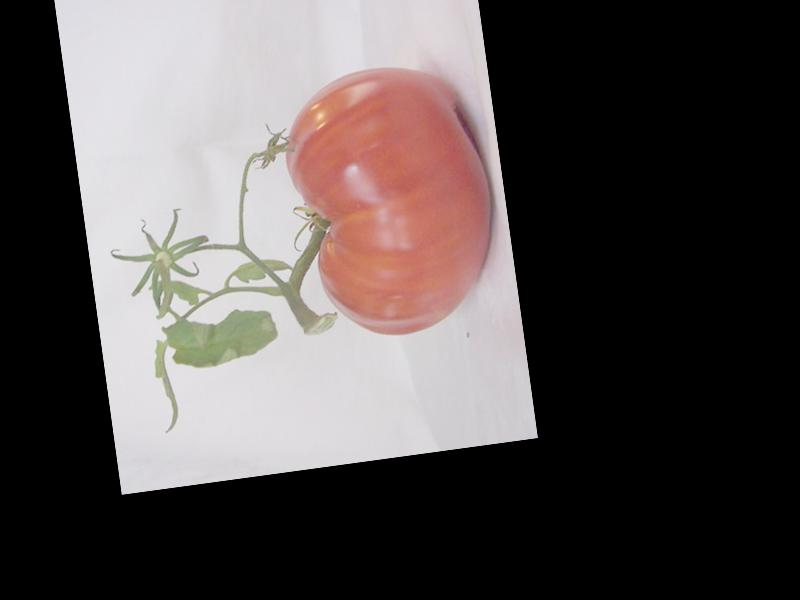Tomato: (275, 54, 508, 348)
